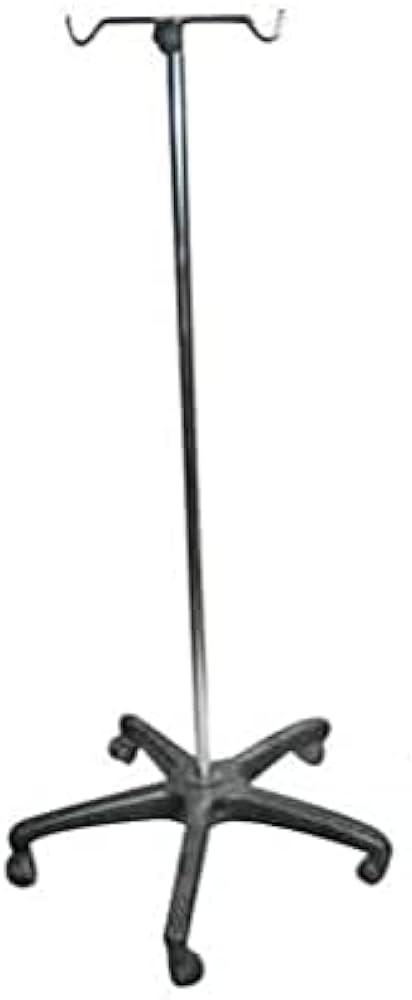Saline Stand: (3, 1, 393, 986)
